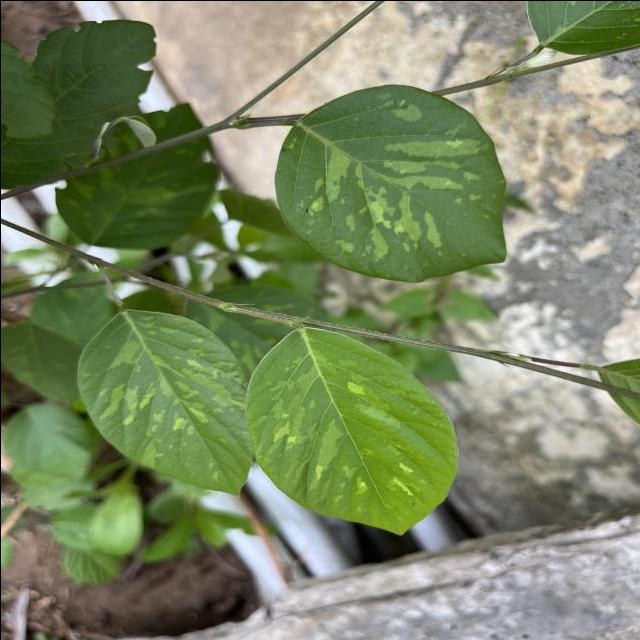Desmodium gangeticum: (268, 79, 511, 282), (241, 322, 461, 536), (72, 304, 255, 498)
